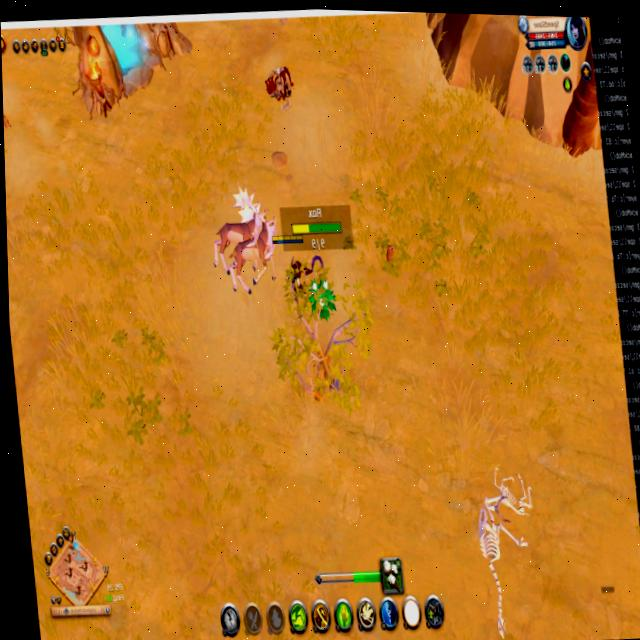hide: (307, 274, 338, 322)
mob: (209, 186, 281, 305)
ore: (269, 62, 298, 111)
red: (275, 229, 312, 303)
